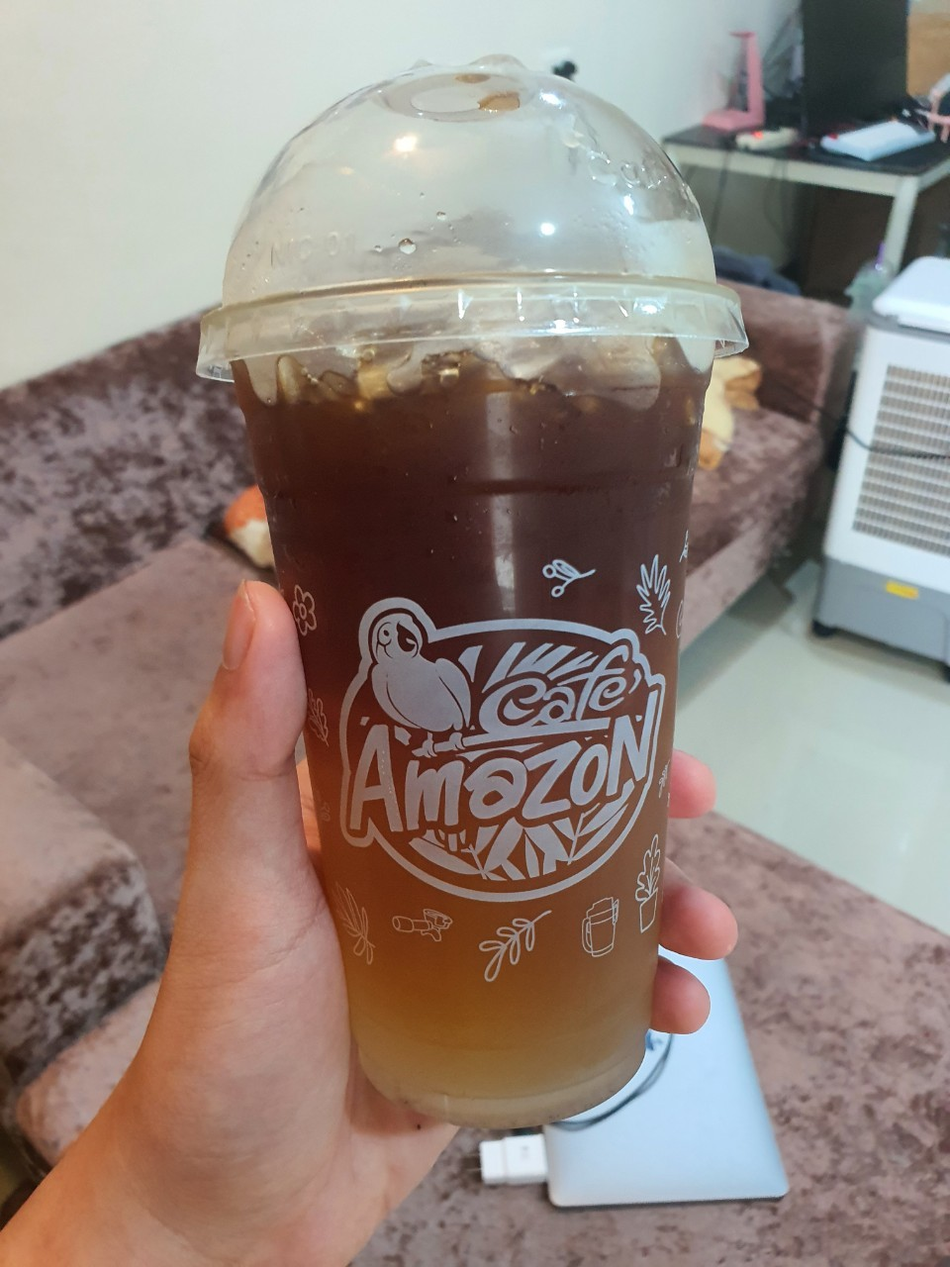plastic: (196, 57, 759, 1146)
